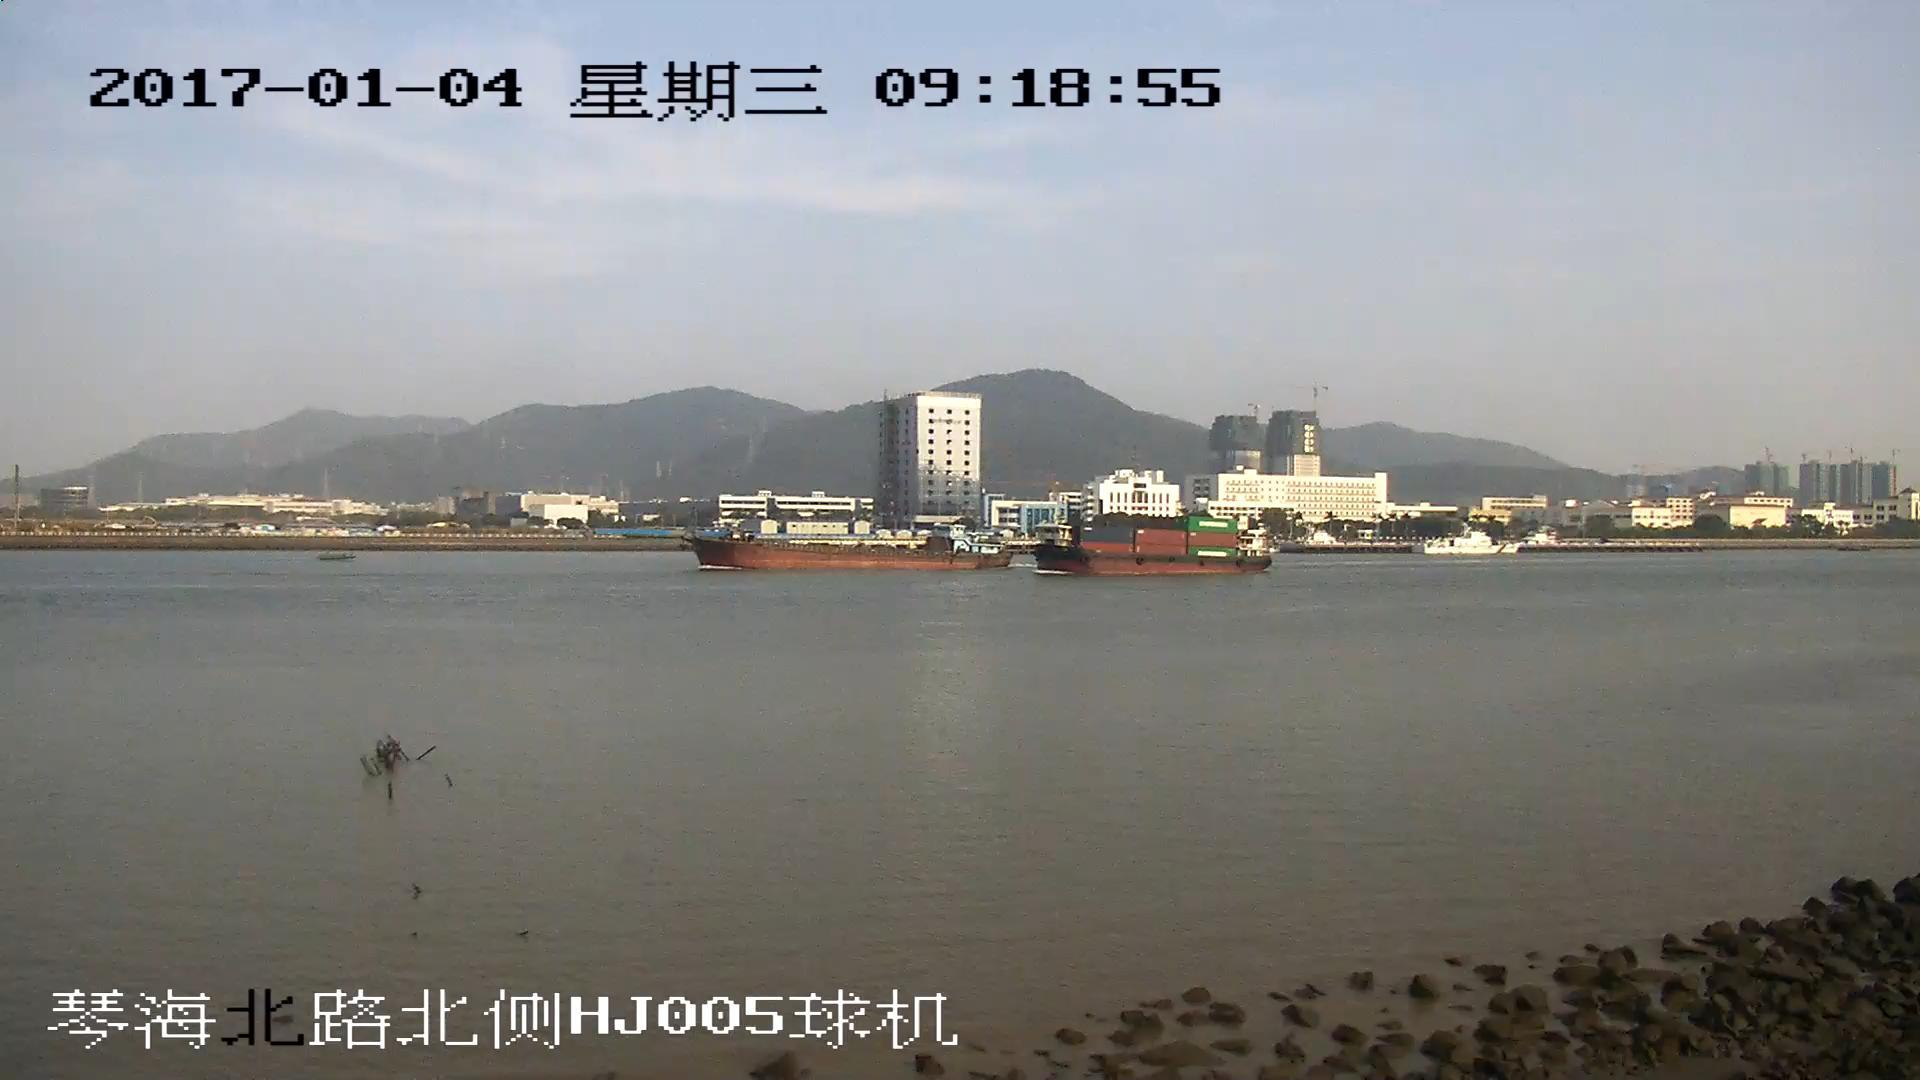Ship: (1039, 516, 1271, 576), (687, 531, 1010, 574)
